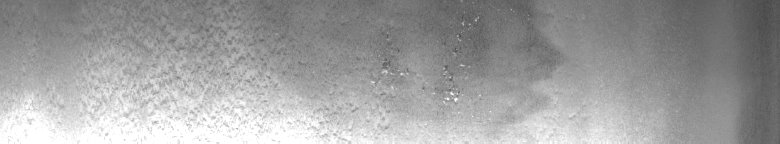hc: (371, 12, 479, 104)
